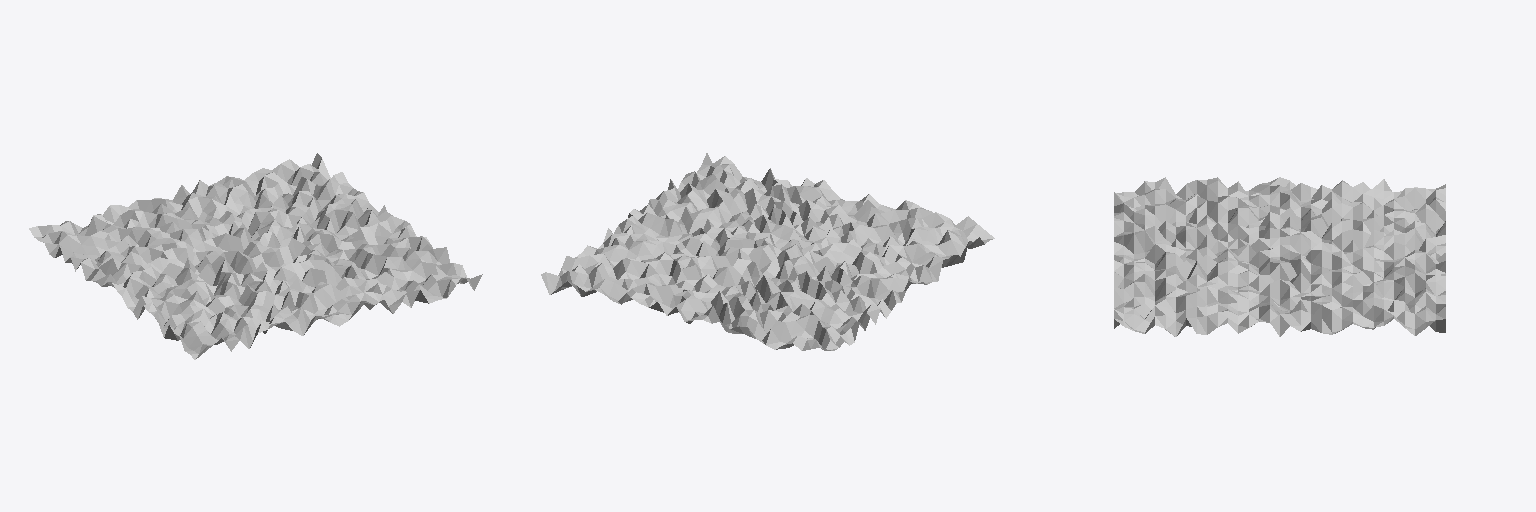
The model's file is plane_bumpy.obj.
3 views of the same model, side by side, from view 1: azimuth 30°, elevation 25°; view 2: azimuth 150°, elevation 25°; view 3: azimuth 270°, elevation 25° (orthographic).
Parts seen in each view (by area): view 1: Plane; view 2: Plane; view 3: Plane.
Boxes of the visible parts, x1=… form: Plane: x1=29, y1=153, x2=482, y2=359; Plane: x1=541, y1=153, x2=994, y2=350; Plane: x1=1114, y1=177, x2=1445, y2=336.
Size of the model in its own units: 2 by 0.1529 by 2.